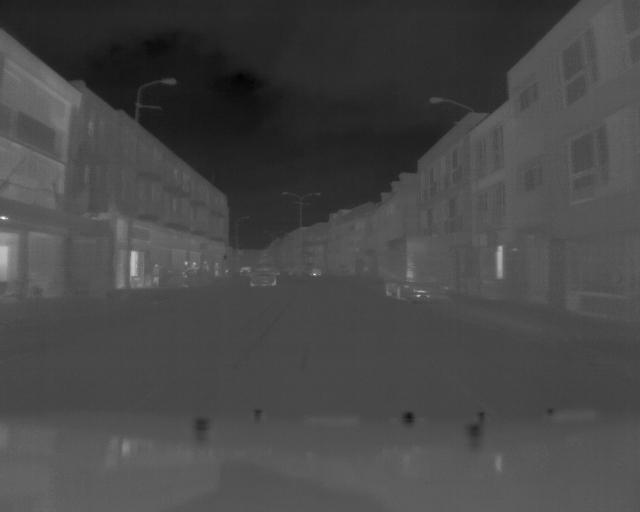car: (385, 238, 441, 300), (248, 263, 280, 289)
person: (214, 260, 220, 279)
